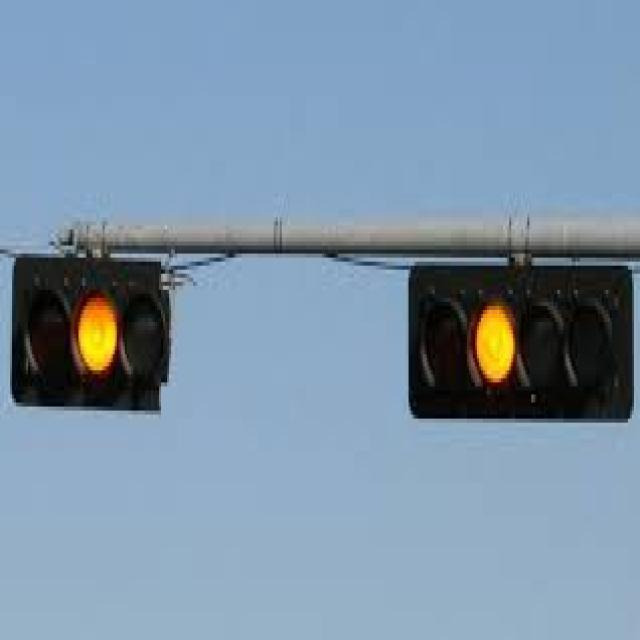yellow_light: (404, 261, 631, 418), (13, 253, 168, 406)
